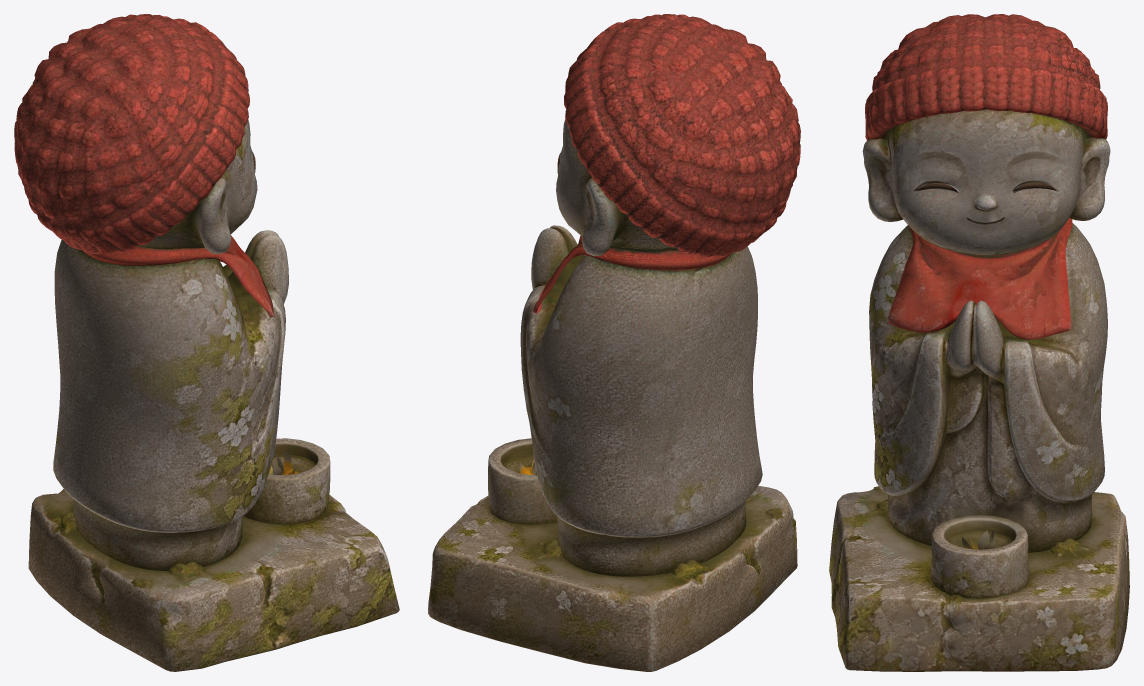
File: jizo.glb
3 views of the same model, side by side, from view 1: azimuth 30°, elevation 25°; view 2: azimuth 150°, elevation 25°; view 3: azimuth 270°, elevation 25° (orthographic). The views are drawn at different scales.
Parts seen in each view (by area): view 1: tripo_node_f281eabc-c5ed-488e-9789-3cb701e98ced; view 2: tripo_node_f281eabc-c5ed-488e-9789-3cb701e98ced; view 3: tripo_node_f281eabc-c5ed-488e-9789-3cb701e98ced.
Part boxes in pixels (x1,y1,x2,y2): tripo_node_f281eabc-c5ed-488e-9789-3cb701e98ced: (14, 14, 399, 671); tripo_node_f281eabc-c5ed-488e-9789-3cb701e98ced: (428, 14, 800, 671); tripo_node_f281eabc-c5ed-488e-9789-3cb701e98ced: (829, 14, 1129, 671).
Size of the model in its own units: 0.5396 by 0.9995 by 0.4849.
1 material, 1 textured.
